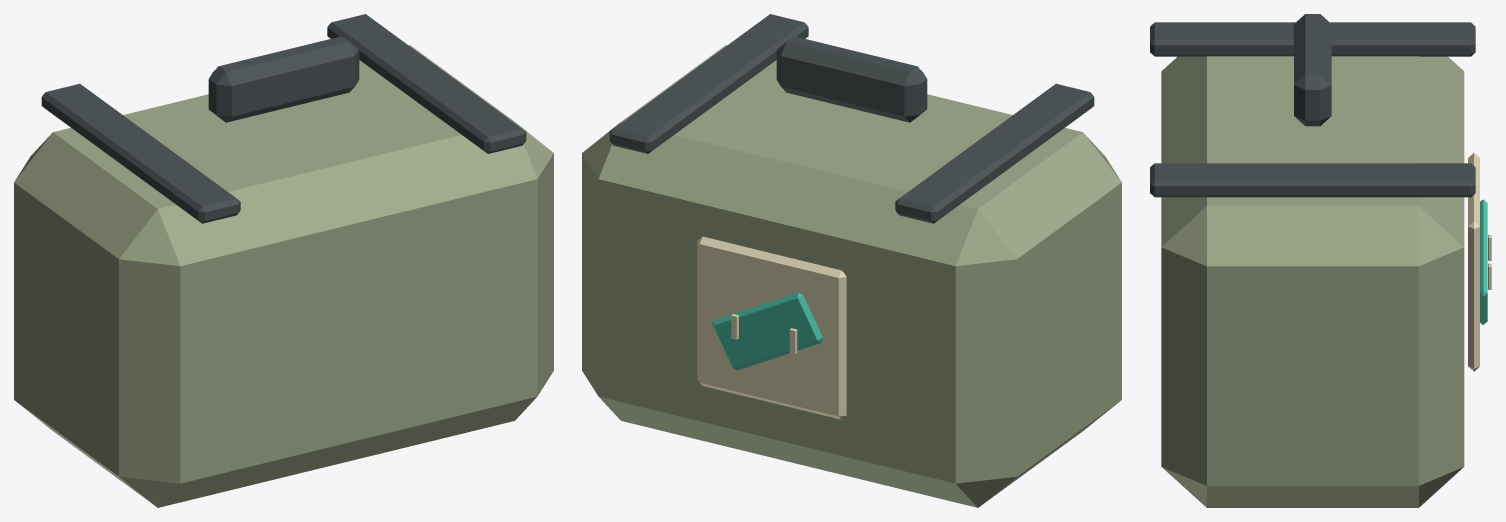
File: acc_rescuepack.glb
3 renders of one model, left to right at view 1: azimuth 30°, elevation 25°; view 2: azimuth 150°, elevation 25°; view 3: azimuth 270°, elevation 25°, orthographic.
Visible parts, largest first — view 1: acc_rescuepack_Canvas, acc_rescuepack_RunningGear; view 2: acc_rescuepack_Canvas, acc_rescuepack_RunningGear, acc_rescuepack_Markings, acc_rescuepack_RescueTeal; view 3: acc_rescuepack_Canvas, acc_rescuepack_RunningGear, acc_rescuepack_Markings, acc_rescuepack_RescueTeal.
Boxes of the visible parts, <box> form: acc_rescuepack_Canvas: <box>14,45,553,507</box>; acc_rescuepack_RunningGear: <box>41,14,526,223</box>; acc_rescuepack_Canvas: <box>582,45,1121,507</box>; acc_rescuepack_RunningGear: <box>609,14,1094,223</box>; acc_rescuepack_Markings: <box>697,236,846,419</box>; acc_rescuepack_RescueTeal: <box>712,292,822,370</box>; acc_rescuepack_Canvas: <box>1161,56,1464,507</box>; acc_rescuepack_RunningGear: <box>1150,14,1475,197</box>; acc_rescuepack_Markings: <box>1468,153,1491,371</box>; acc_rescuepack_RescueTeal: <box>1480,199,1487,324</box>.
Size of the model in its own units: 0.67 by 0.5475 by 0.4515.
